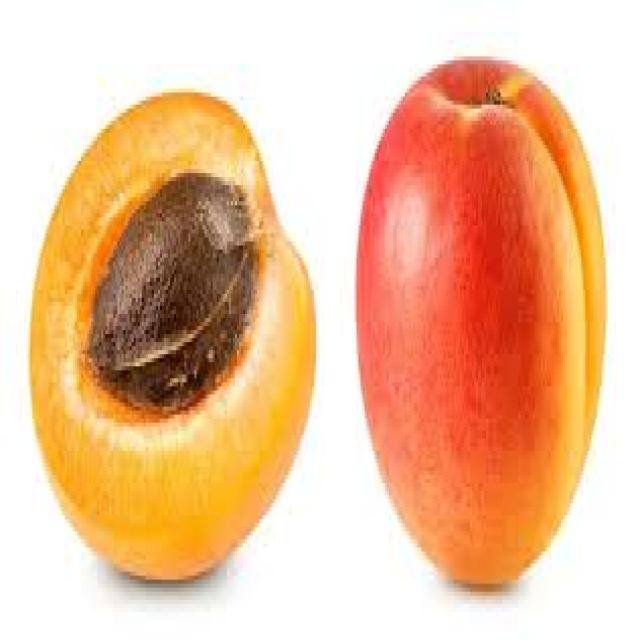kayisi: (360, 52, 616, 592)
kayisi-cekirdegi: (94, 181, 266, 395)
